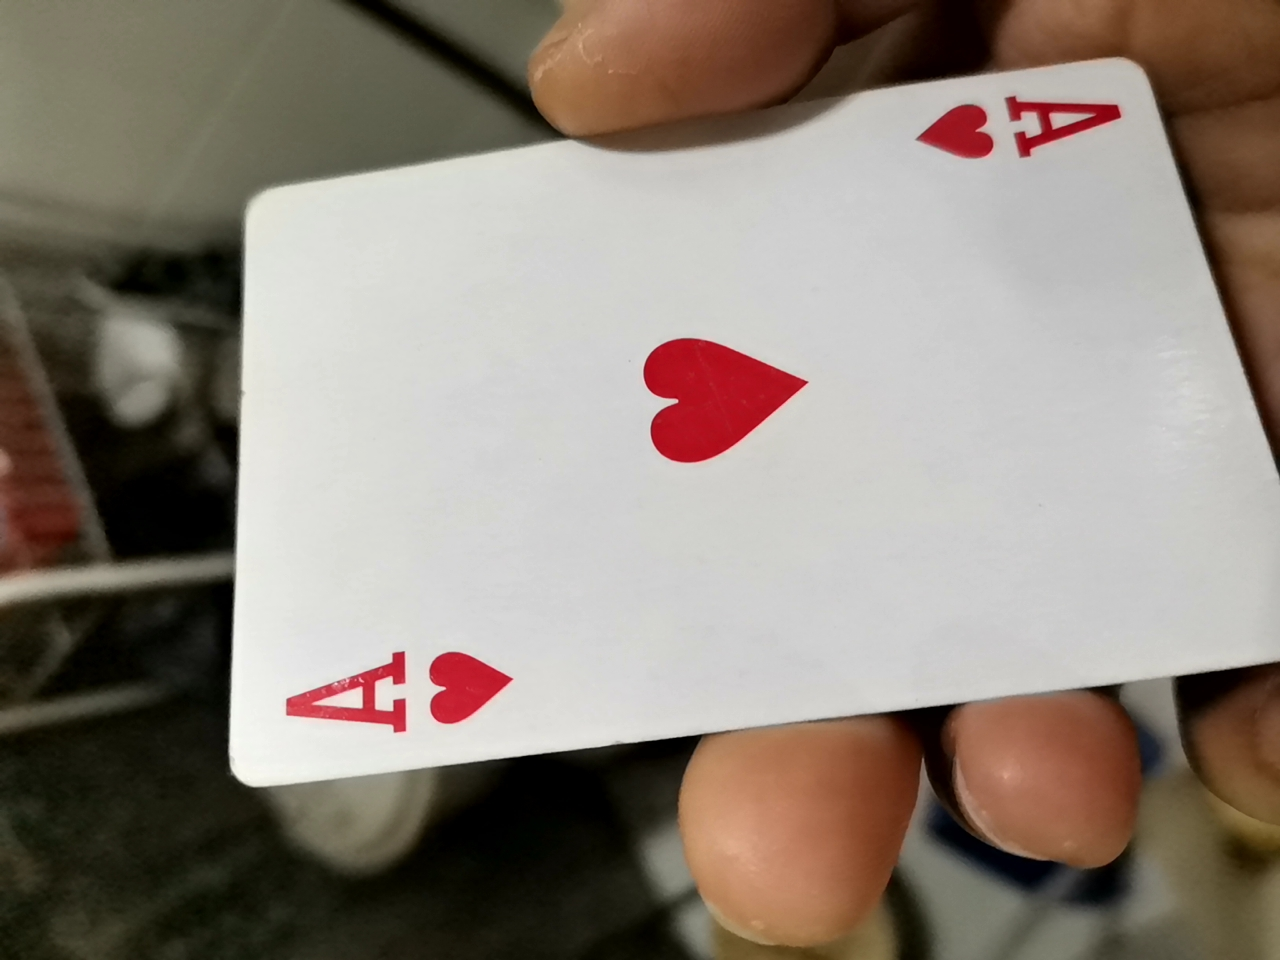hx a: (214, 56, 1269, 765)
